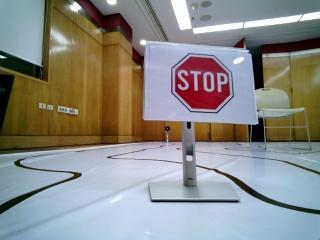stop: (146, 39, 247, 112)
